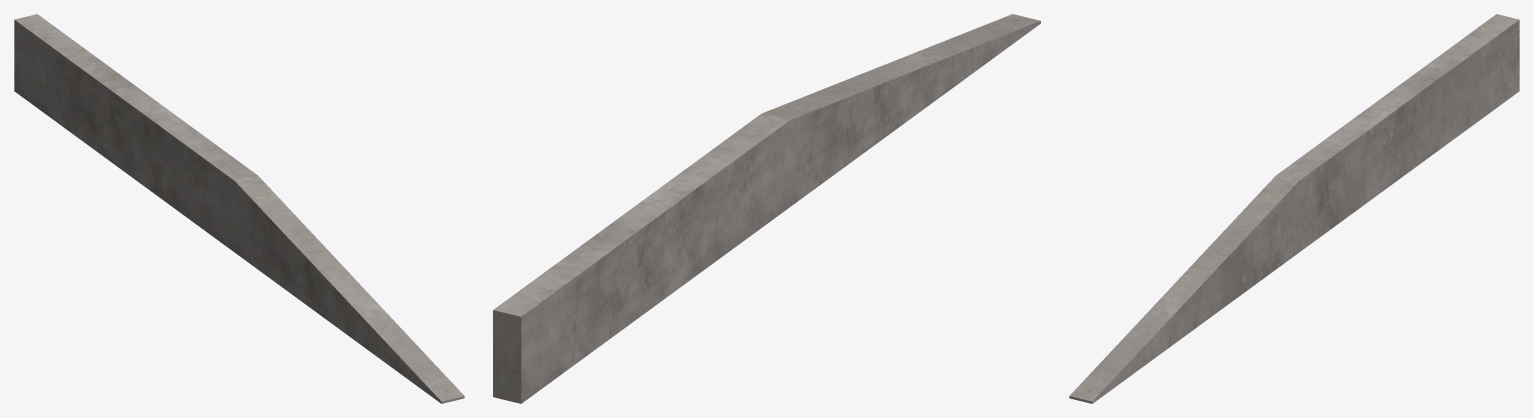
File: retaining_wall_long.glb
The picture shows the model from 3 angles, left to right: view 1: azimuth 30°, elevation 25°; view 2: azimuth 150°, elevation 25°; view 3: azimuth 330°, elevation 25°; orthographic projection. The views are drawn at different scales.
Visible parts, largest first — view 1: Field_Retaining_Wall; view 2: Field_Retaining_Wall; view 3: Field_Retaining_Wall.
Boxes of the visible parts, x1=… form: Field_Retaining_Wall: x1=14, y1=14, x2=464, y2=403; Field_Retaining_Wall: x1=493, y1=14, x2=1040, y2=403; Field_Retaining_Wall: x1=1069, y1=14, x2=1519, y2=403.
Bounding box in the file's own units: 0.9435 × 2.8 × 30.22.
Materials: 1 (1 with a texture image).
